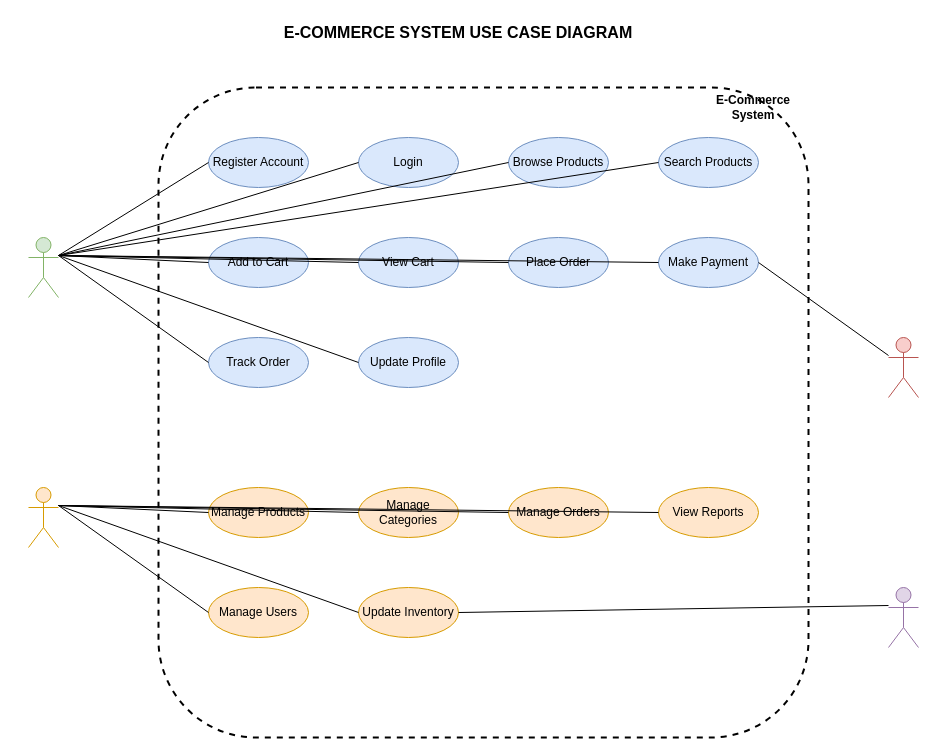
Image size: 945x755. Some labels were removed from this diagram. Each missing label, with the centre of its shape:
"Admin" belongs at [43,517].
"Customer" belongs at [43,267].
"Inventory System" belongs at [903,617].
"Payment Gateway" belongs at [903,367].
